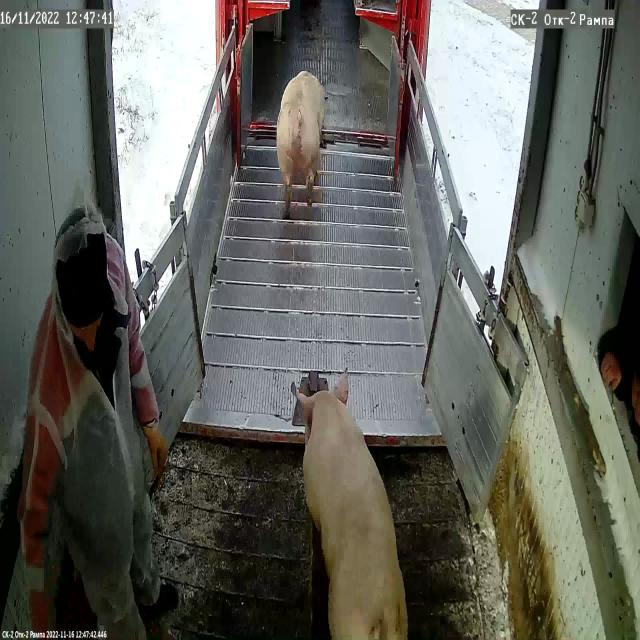pig: (296, 370, 408, 640), (276, 72, 326, 203)
